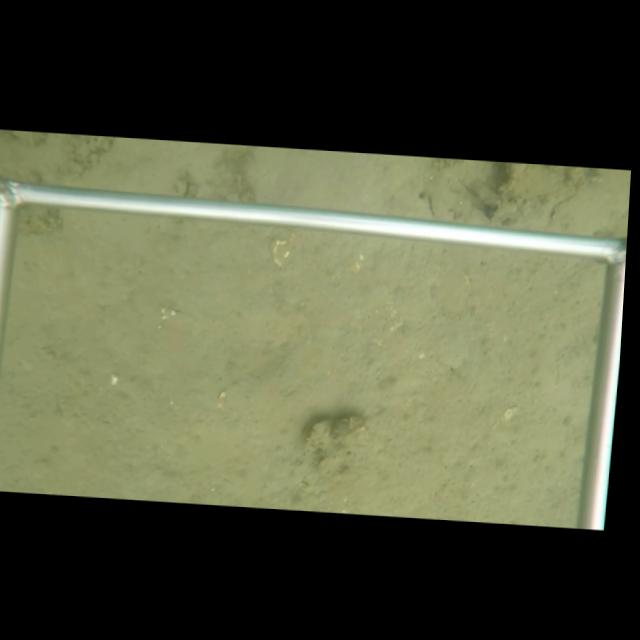Oyster-Closed: (301, 411, 367, 448)
